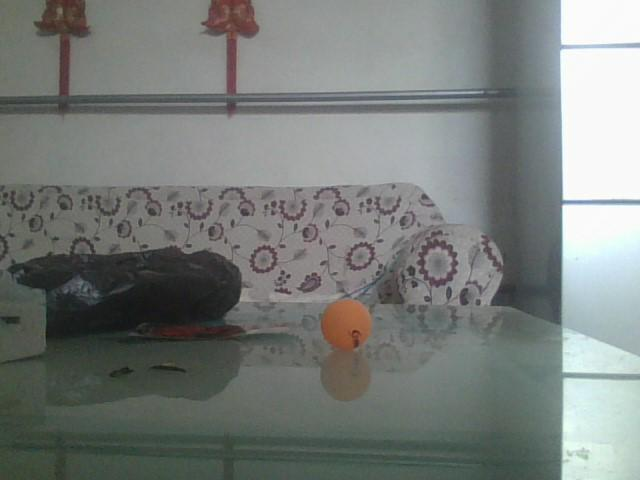ball: (323, 299, 371, 350)
